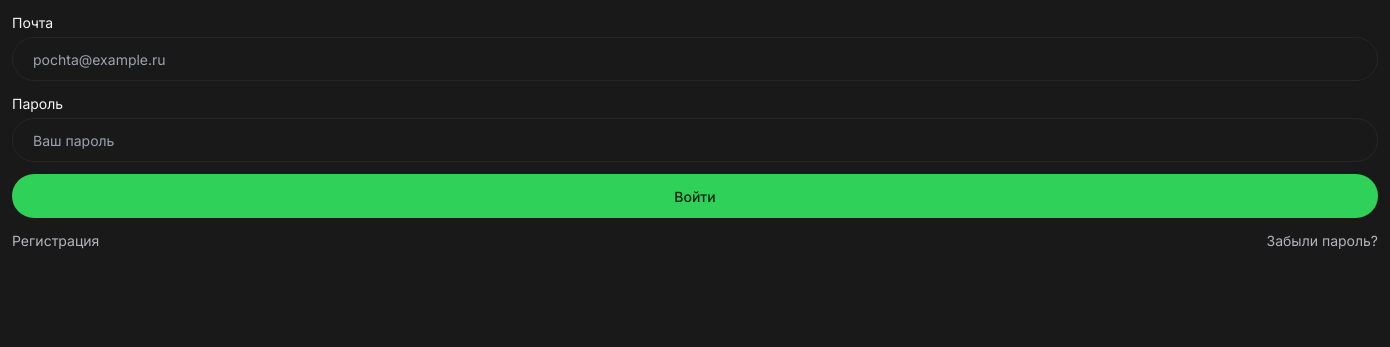
Test: EmailAuthForm: регистрация › switches modes and asks to repeat the password
Click the button "Регистрация".
click(56, 240)  # box [12,230,99,251]
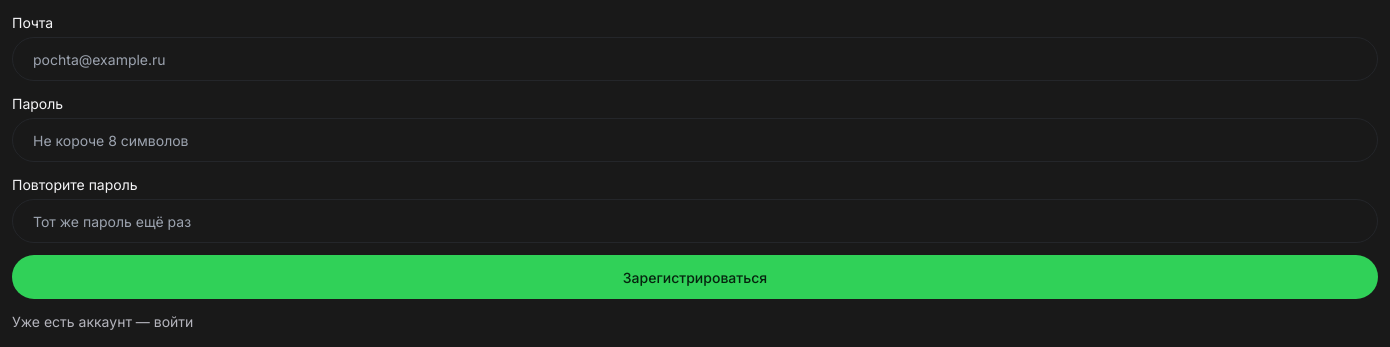
Now the password field labelled "Повторите пароль" is shown, box [12,199,1378,243]
